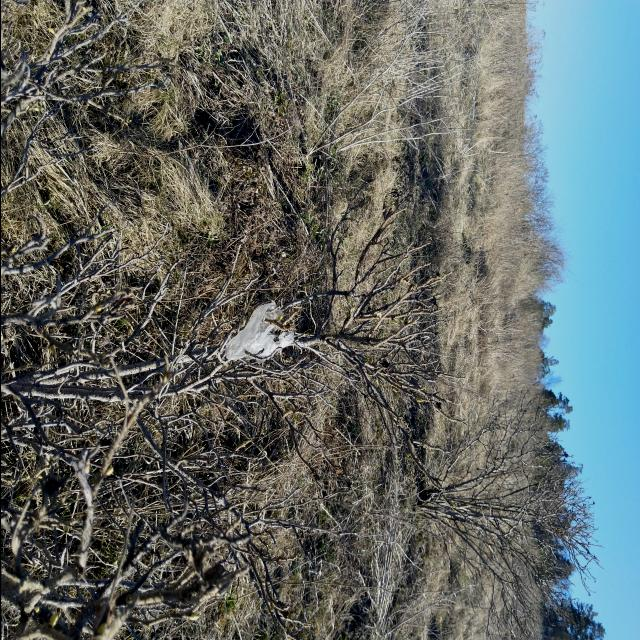Single-use carrier bag: (224, 302, 293, 363)
